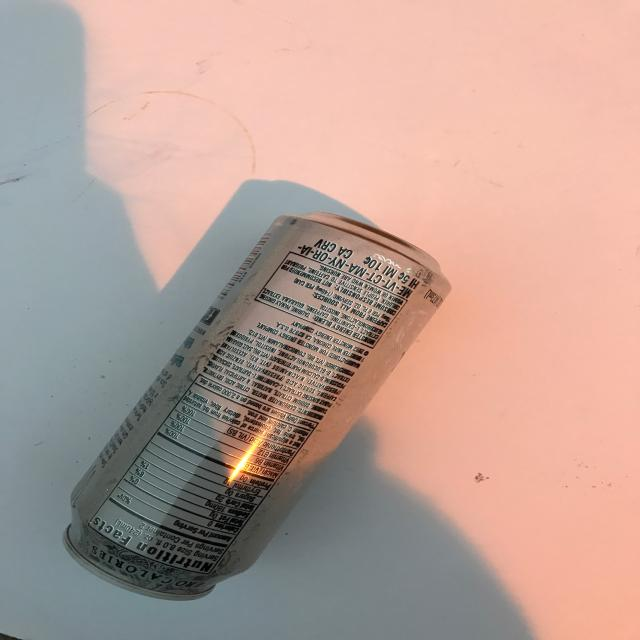metal: (62, 210, 452, 601)
